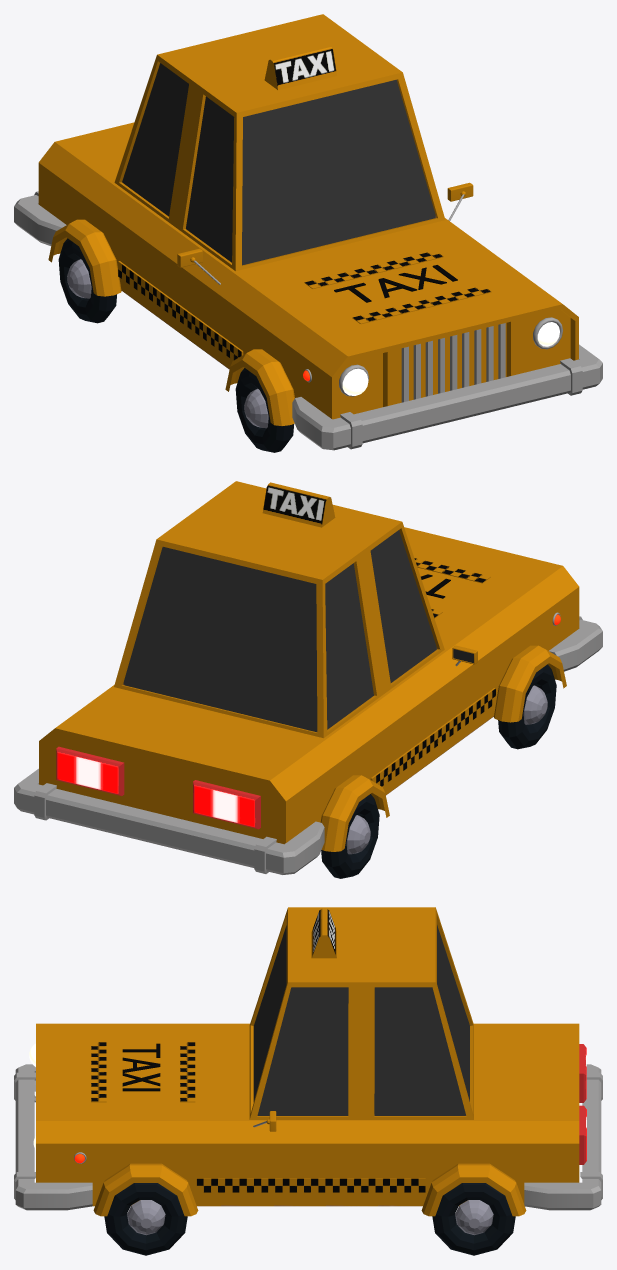
Rendered from ready02.fbx.
3 views of the same model, one above another, from view 1: azimuth 30°, elevation 25°; view 2: azimuth 150°, elevation 25°; view 3: azimuth 270°, elevation 25° (orthographic). The views are drawn at different scales.
Visible parts, largest first — view 1: polySurface13, polySurface54, polySurface21, polySurface16, polySurface14, polySurface33, polySurface20, polySurface11, polySurface15, polySurface46, polySurface44, polySurface45 (+2 smaller); view 2: polySurface13, polySurface54, polySurface46, polySurface14, polySurface16, polySurface48, polySurface47, polySurface33, polySurface20, polySurface15, polySurface11, polySurface21 (+3 smaller); view 3: polySurface54, polySurface13, polySurface21, polySurface46, polySurface35, polySurface42, polySurface19, polySurface43, polySurface55, polySurface33, polySurface41, polySurface34 (+3 smaller).
Boxes of the visible parts, left/top/right/bottom form: polySurface13: left=114, top=14, right=445, bottom=271; polySurface54: left=38, top=122, right=578, bottom=419; polySurface21: left=292, top=344, right=602, bottom=450; polySurface16: left=48, top=219, right=121, bottom=296; polySurface14: left=225, top=349, right=294, bottom=425; polySurface33: left=264, top=45, right=337, bottom=90; polySurface20: left=118, top=261, right=243, bottom=360; polySurface11: left=235, top=368, right=294, bottom=452; polySurface15: left=58, top=238, right=116, bottom=323; polySurface46: left=14, top=191, right=66, bottom=245; polySurface44: left=352, top=285, right=491, bottom=324; polySurface45: left=304, top=250, right=443, bottom=288; polySurface13: left=114, top=481, right=444, bottom=738; polySurface54: left=39, top=527, right=579, bottom=844; polySurface46: left=14, top=768, right=324, bottom=874; polySurface14: left=494, top=645, right=566, bottom=722; polySurface16: left=320, top=775, right=389, bottom=851; polySurface48: left=56, top=746, right=124, bottom=795; polySurface47: left=193, top=780, right=260, bottom=829; polySurface33: left=262, top=482, right=335, bottom=527; polySurface20: left=370, top=688, right=495, bottom=786; polySurface15: left=321, top=794, right=379, bottom=878; polySurface11: left=498, top=664, right=556, bottom=749; polySurface21: left=549, top=616, right=602, bottom=671; polySurface54: left=36, top=1023, right=579, bottom=1206; polySurface13: left=249, top=907, right=473, bottom=1119; polySurface21: left=14, top=1064, right=92, bottom=1210; polySurface46: left=524, top=1064, right=602, bottom=1210; polySurface35: left=104, top=1183, right=187, bottom=1255; polySurface42: left=432, top=1183, right=515, bottom=1255; polySurface19: left=196, top=1178, right=425, bottom=1192; polySurface43: left=421, top=1163, right=526, bottom=1216; polySurface55: left=93, top=1163, right=198, bottom=1216; polySurface33: left=311, top=908, right=336, bottom=958; polySurface41: left=455, top=1200, right=493, bottom=1235; polySurface34: left=127, top=1200, right=165, bottom=1235.
Bounding box in the file's own units: 46.99 × 43.85 × 85.99.
1 material, 1 textured.
